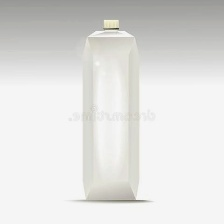carton: (75, 15, 145, 207)
